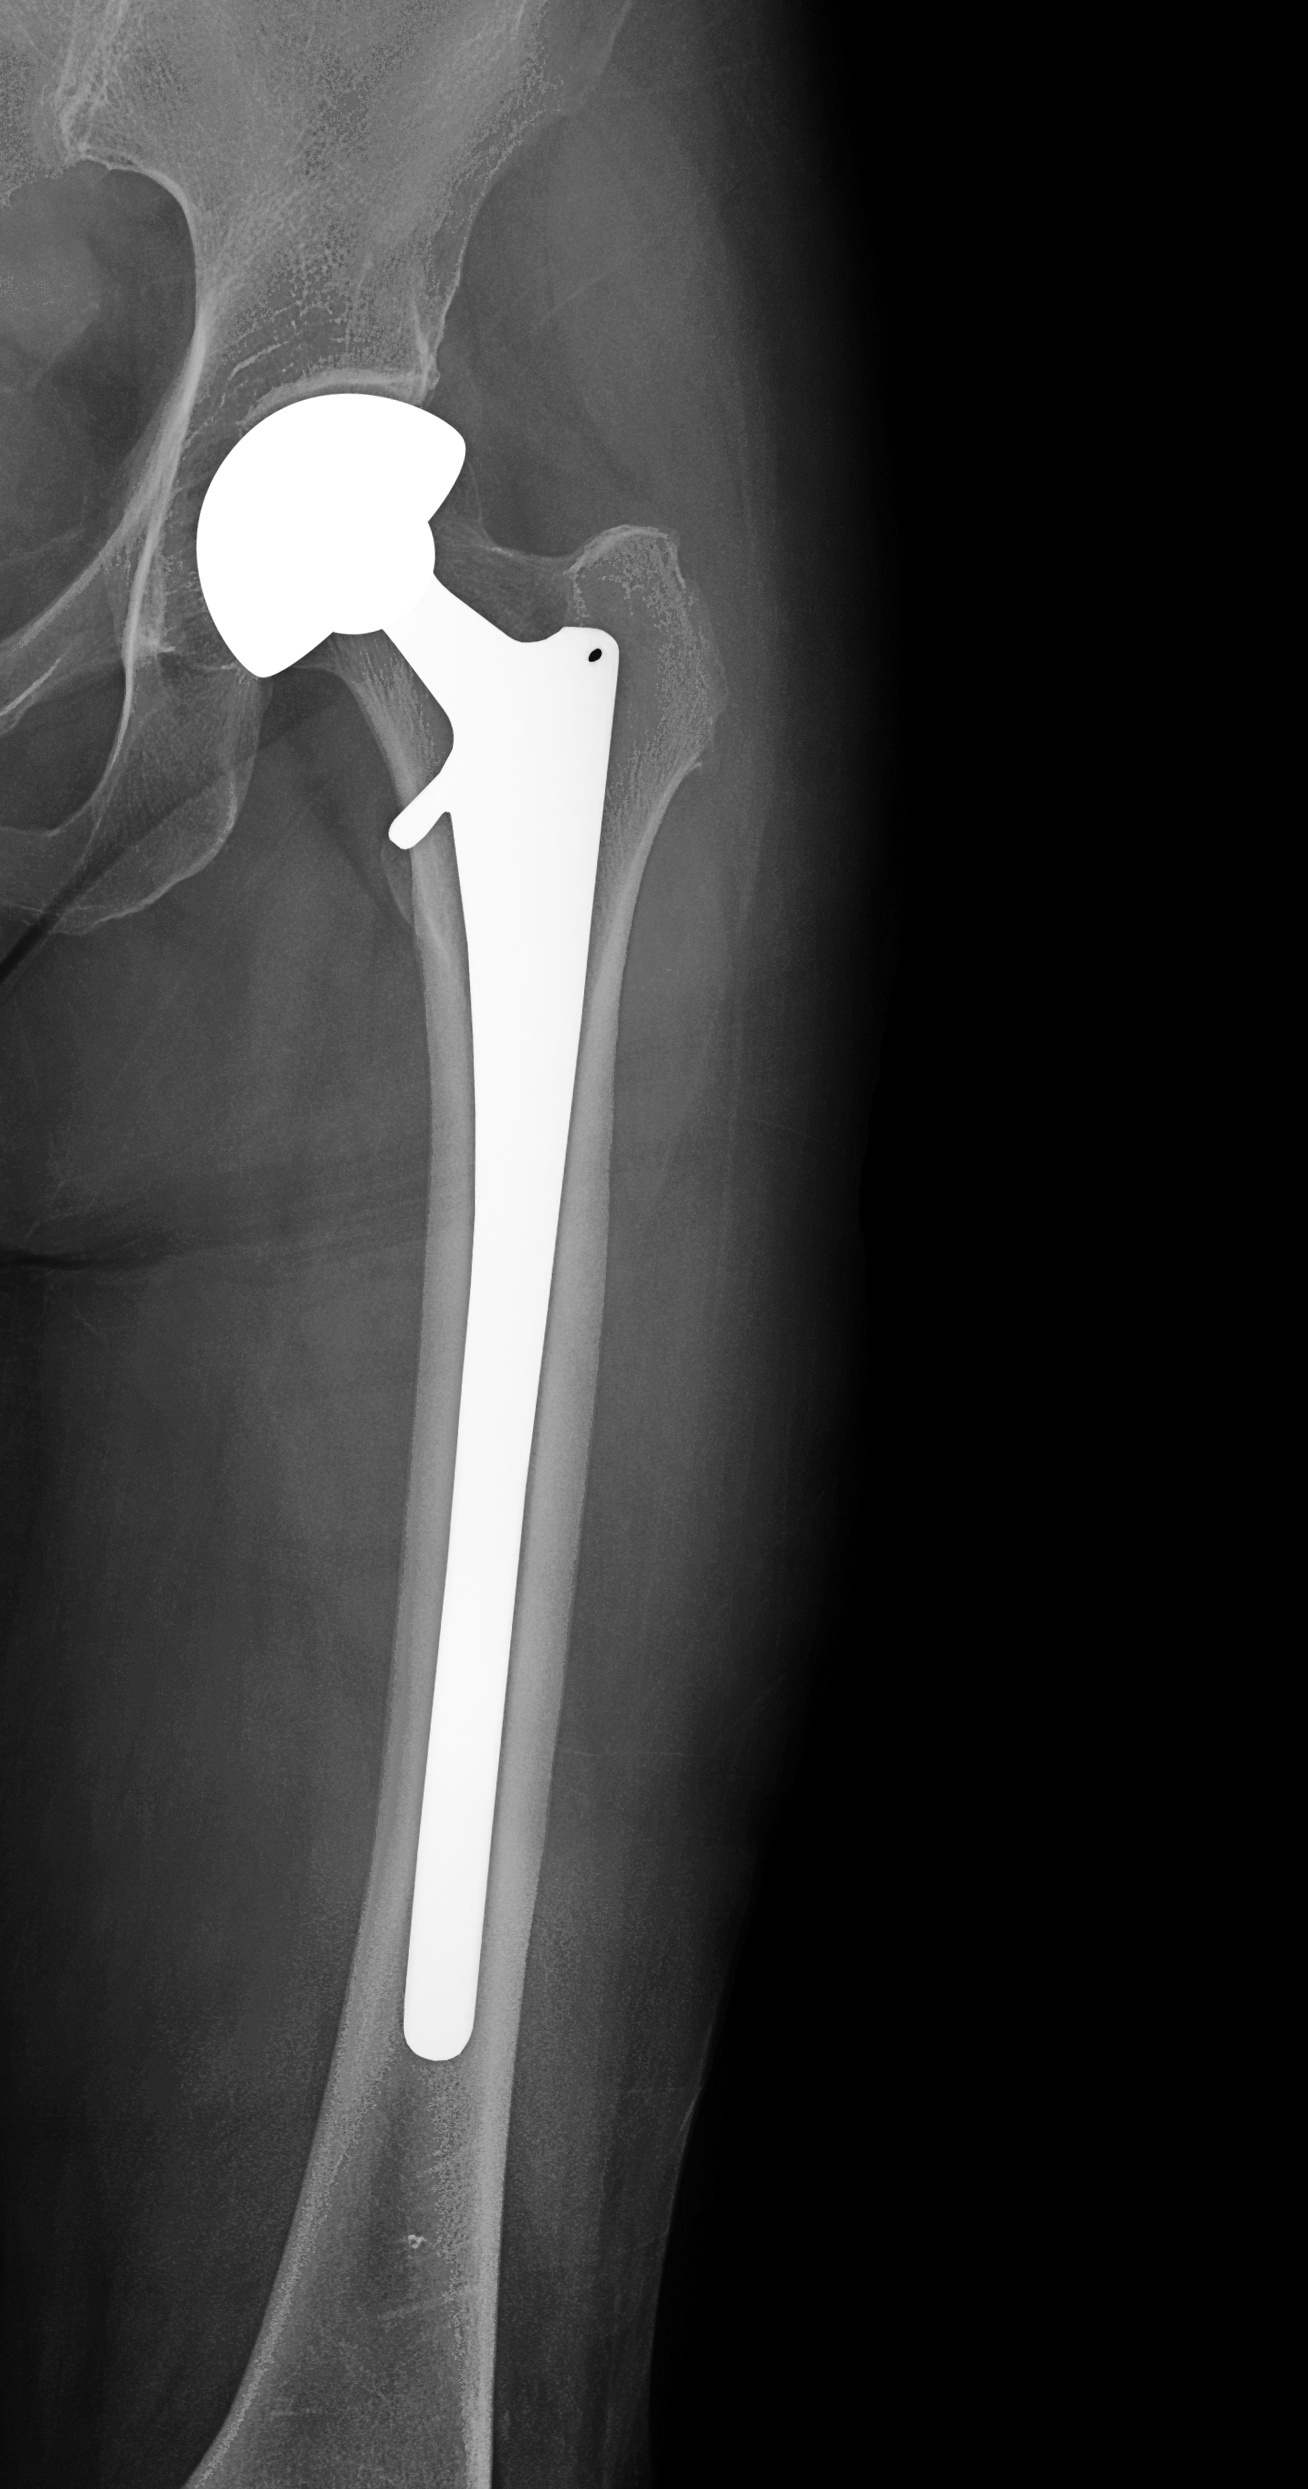Hip - Bias - Zimmer: (117, 267, 724, 2110)
